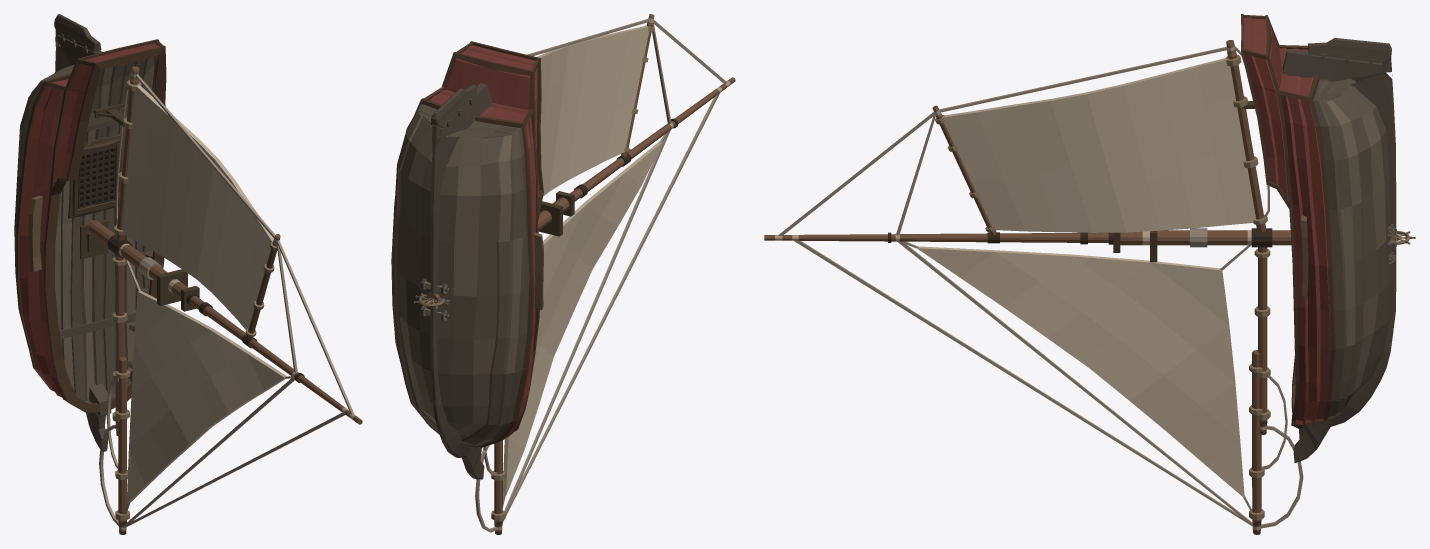
The model's file is ship.glb.
3 renders of one model, left to right at view 1: azimuth 30°, elevation 25°; view 2: azimuth 150°, elevation 25°; view 3: azimuth 270°, elevation 25°, orthographic. The views are drawn at different scales.
Visible parts, largest first — view 1: Hull, Sails, Mast; view 2: Hull, Sails, Mast; view 3: Sails, Hull, Mast.
Boxes of the visible parts, <box> form: Hull: <box>14,14,166,451</box>; Sails: <box>122,84,287,503</box>; Mast: <box>88,66,362,534</box>; Hull: <box>391,41,543,479</box>; Sails: <box>503,25,662,495</box>; Mast: <box>426,14,735,534</box>; Sails: <box>917,58,1255,497</box>; Hull: <box>1241,14,1396,462</box>; Mast: <box>764,40,1396,534</box>.
Size of the model in its own units: 5.07 by 16.64 by 19.57.
Materials: 1 (1 with a texture image).
